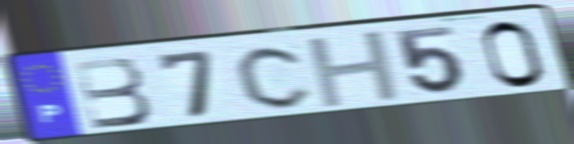0: (479, 18, 548, 90)
5: (390, 25, 469, 97)
7: (155, 48, 219, 120)
B: (70, 55, 156, 131)
C: (233, 43, 317, 111)
H: (302, 27, 406, 111)
